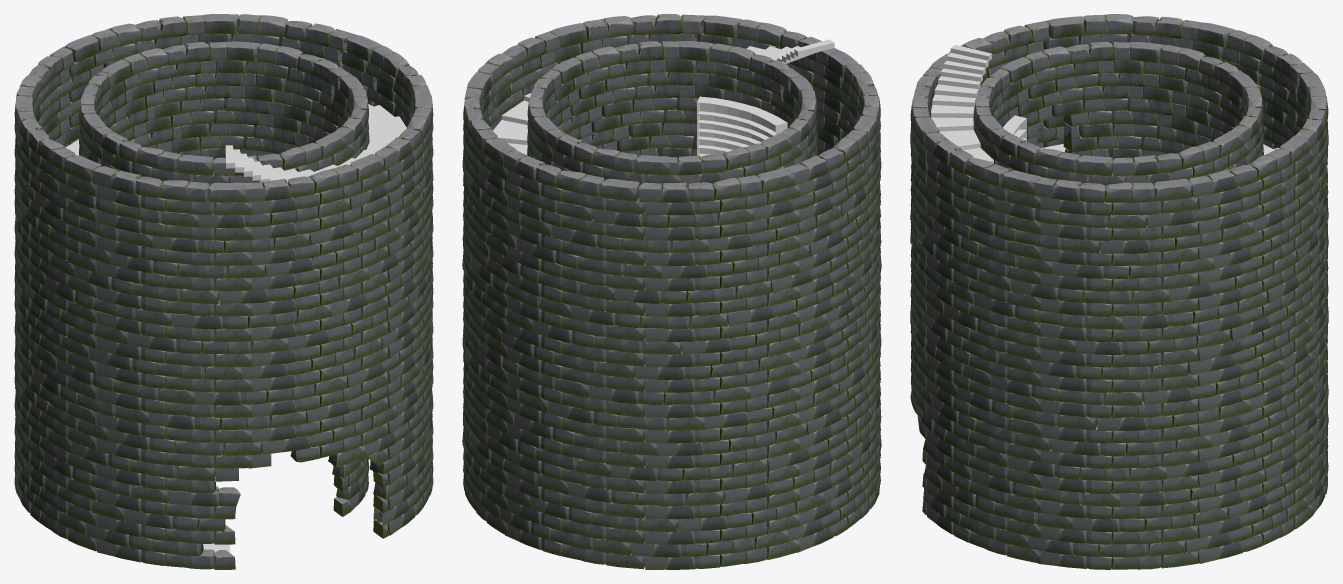
Rendered from Pebble_Round_2_Wendeltreppe_Mauerringe.vor_Hoehenanpassung_20261107_143541.fbx.
The picture shows the model from 3 angles, left to right: view 1: azimuth 30°, elevation 25°; view 2: azimuth 150°, elevation 25°; view 3: azimuth 270°, elevation 25°; orthographic projection.
Parts seen in each view (by area): view 1: Mauerring_Reihe_02, Mauerring_Innen; view 2: Mauerring_Reihe_02, Mauerring_Innen, Cube.003, Stufe 074; view 3: Mauerring_Reihe_02, Mauerring_Innen, Stufe 081, Stufe 082, Stufe 083.
Part boxes in pixels (x1,y1,x2,y2): Mauerring_Reihe_02: (14,14,433,569); Mauerring_Innen: (79,41,369,516); Mauerring_Reihe_02: (462,14,881,569); Mauerring_Innen: (527,41,817,189); Cube.003: (697,96,787,160); Stufe 074: (493,120,527,144); Mauerring_Reihe_02: (910,14,1328,569); Mauerring_Innen: (974,41,1263,397); Stufe 081: (939,130,980,150); Stufe 082: (931,117,973,131); Stufe 083: (931,105,974,118).
Bounding box in the file's own units: 1529 × 1613 × 1529.
